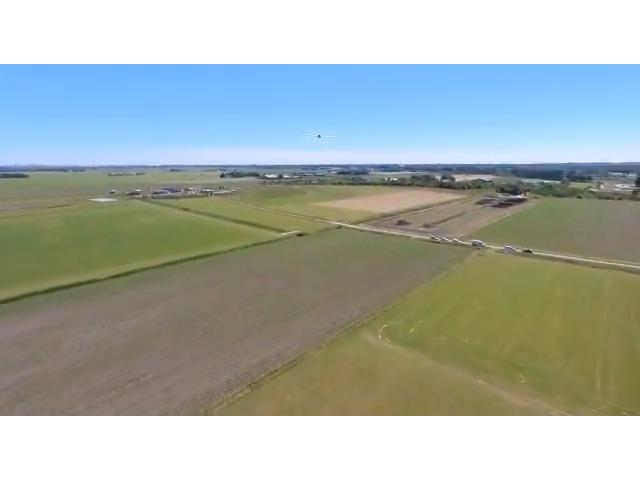Anti-Drone: (303, 129, 339, 145)
